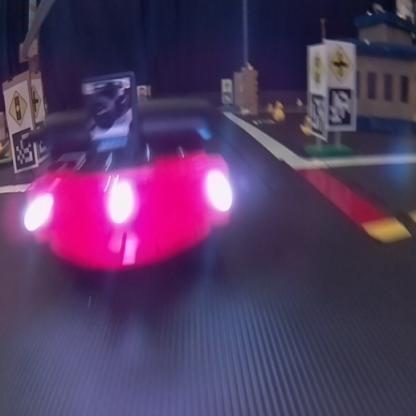duckiebot: (20, 66, 238, 305)
